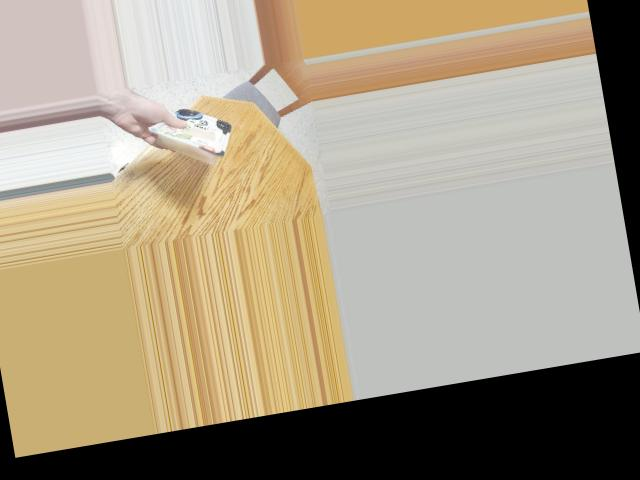cheese: (157, 91, 234, 178)
